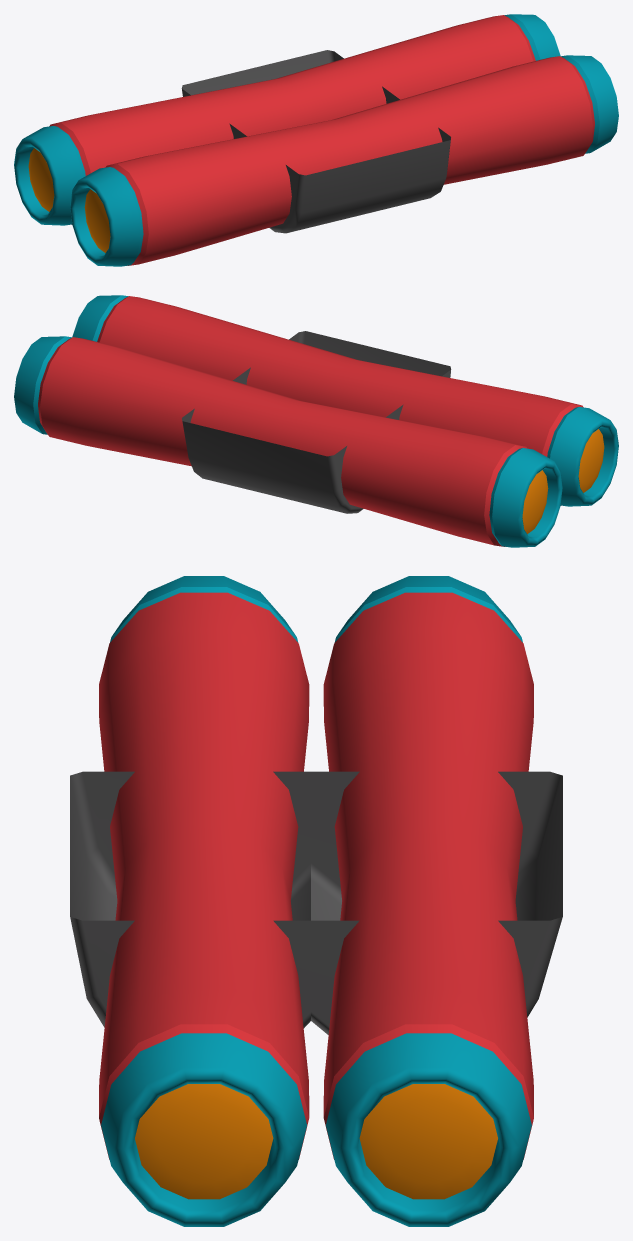
Rendered from Car_09_Turbine.fbx.
3 renders of one model, top to bottom at view 1: azimuth 30°, elevation 25°; view 2: azimuth 150°, elevation 25°; view 3: azimuth 270°, elevation 25°, orthographic. The views are drawn at different scales.
Visible parts, largest first — view 1: Car_09_Turbine; view 2: Car_09_Turbine; view 3: Car_09_Turbine.
Boxes of the visible parts, x1,y1,x2,y2 form: Car_09_Turbine: (14, 14, 618, 266); Car_09_Turbine: (14, 295, 618, 547); Car_09_Turbine: (70, 576, 562, 1226).
Size of the model in its own units: 168 by 70.43 by 30.91.
